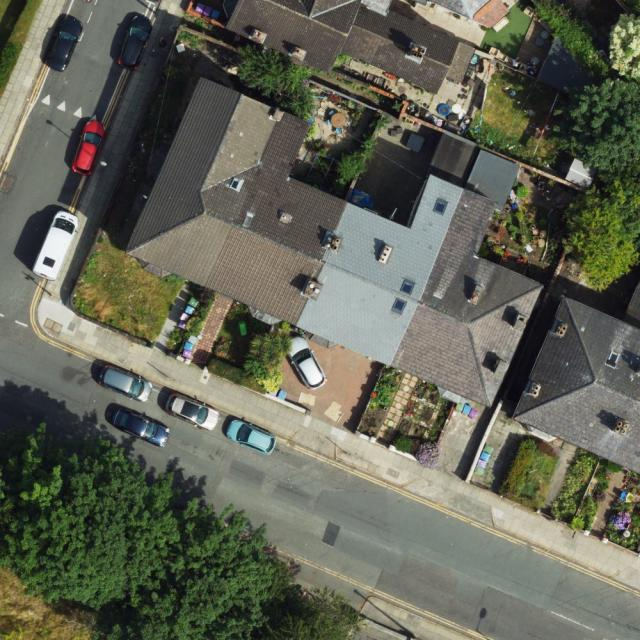roof: (125, 80, 539, 408), (511, 291, 640, 476), (228, 0, 476, 95)
skylight: (388, 296, 409, 318), (398, 275, 418, 298), (604, 349, 622, 372), (227, 175, 246, 191), (430, 199, 448, 215)
